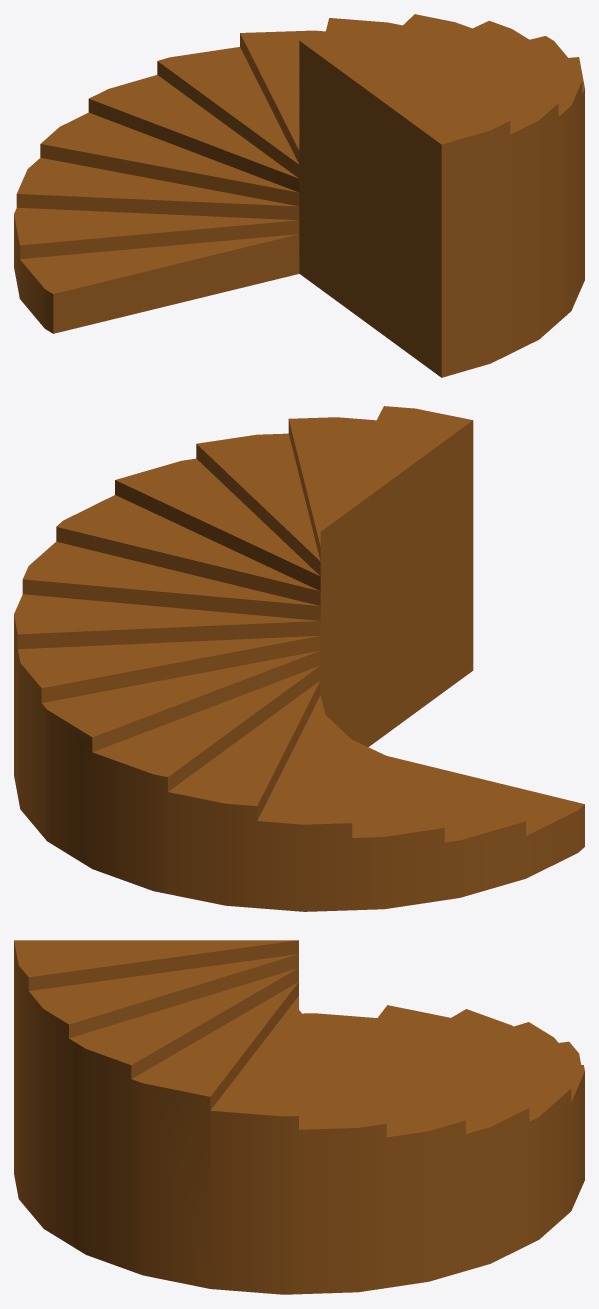
Rendered from Dungeon_Tile_Stairs_Spiral_Full_Wooden_Large_01.fbx.
3 renders of one model, top to bottom at view 1: azimuth 30°, elevation 25°; view 2: azimuth 150°, elevation 25°; view 3: azimuth 270°, elevation 25°, orthographic. The views are drawn at different scales.
Parts seen in each view (by area): view 1: Model; view 2: Model; view 3: Model.
Part boxes in pixels (x1=…): Model: x1=14, y1=14, x2=584, y2=377; Model: x1=14, y1=406, x2=584, y2=911; Model: x1=14, y1=940, x2=584, y2=1294.
Bounding box in the file's own units: 1664 × 750 × 1661.
